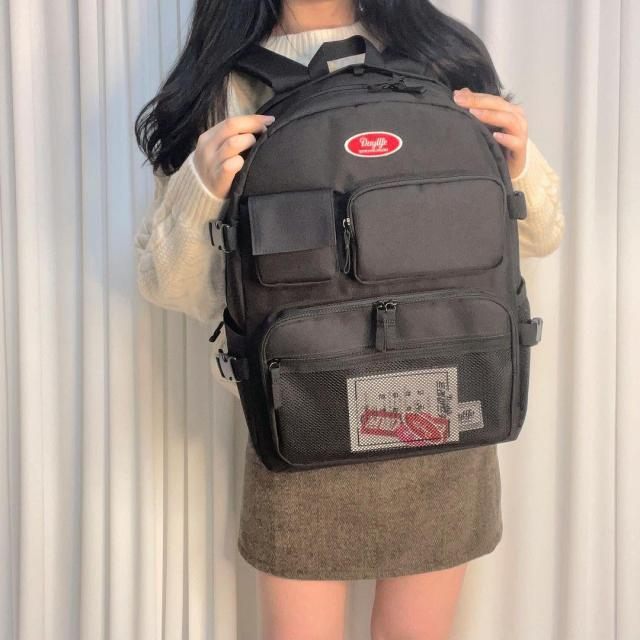backpack: (201, 69, 537, 467)
